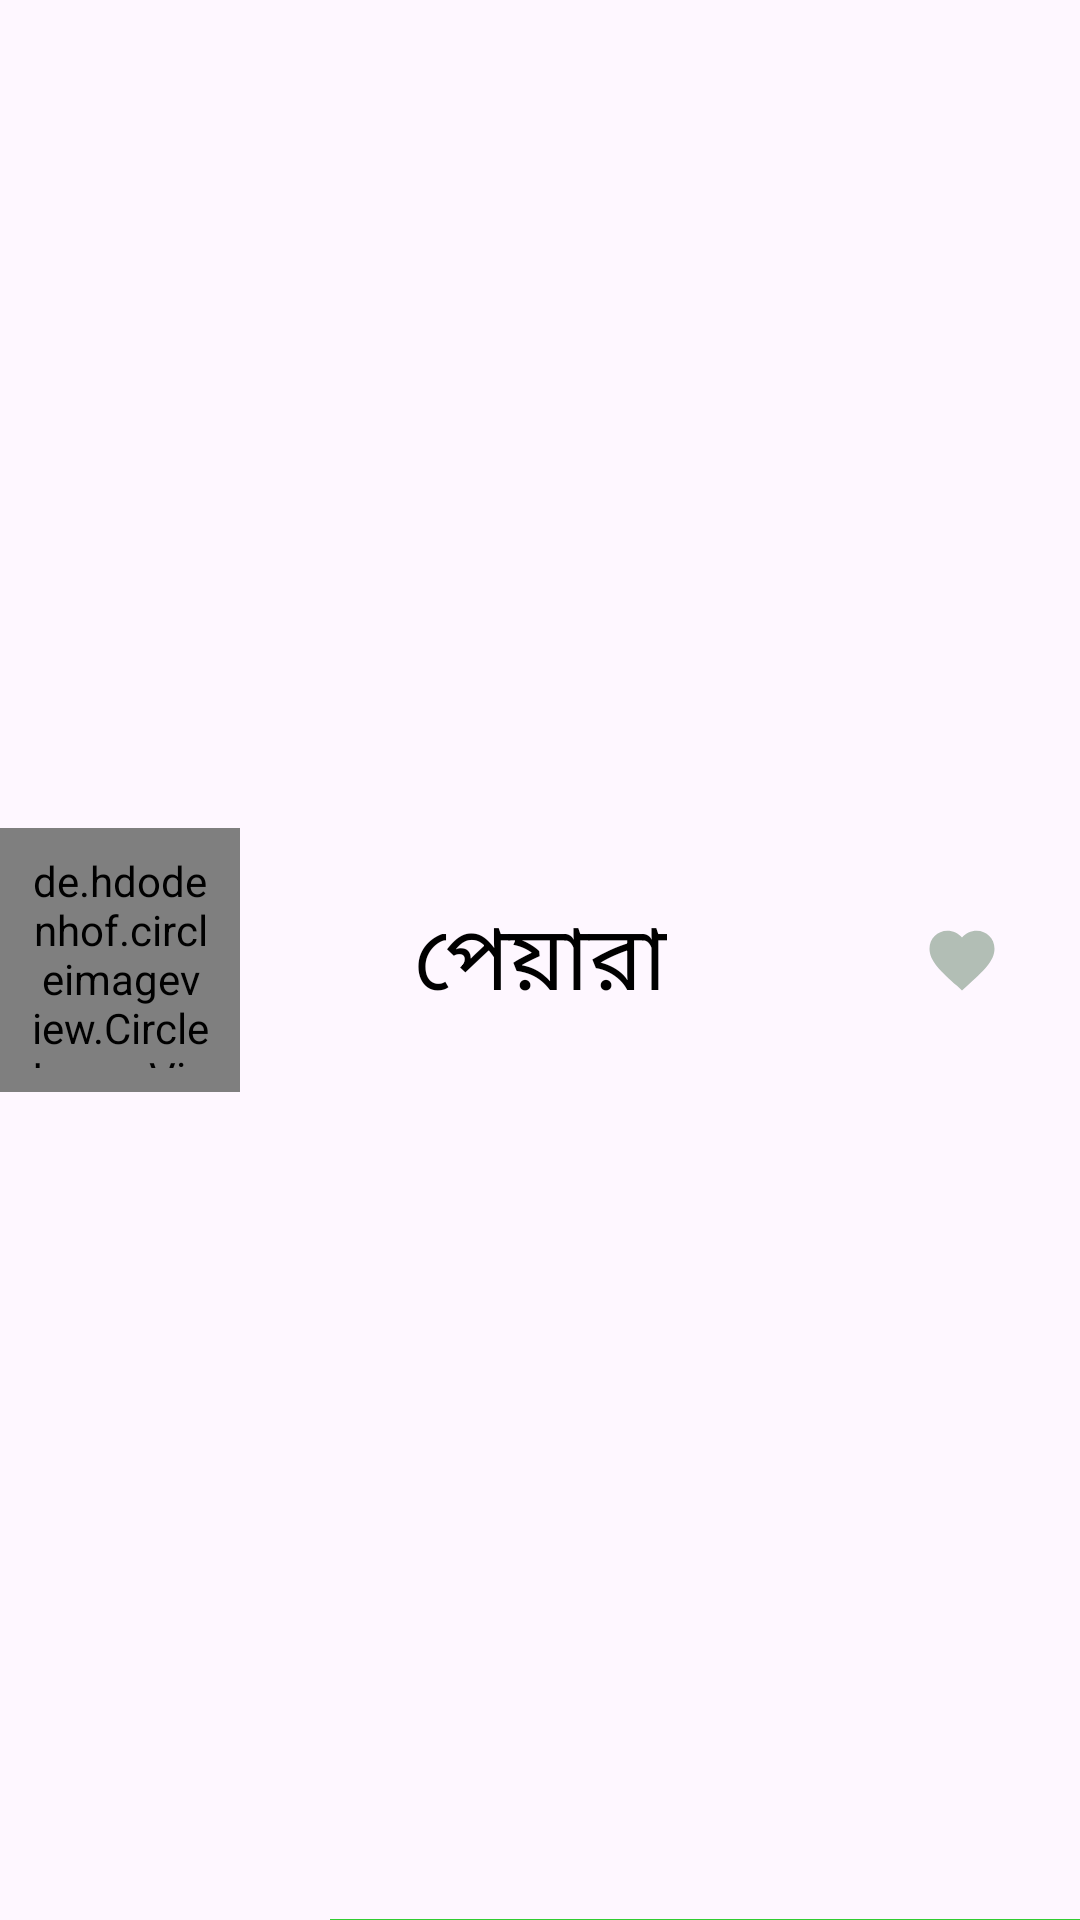

Icons on this 1080×1920 Android screen, each with its box as [x1=x1, y1=y1, x2=x2, y2=y2]:
favorite: [x1=929, y1=931, x2=995, y2=990]
